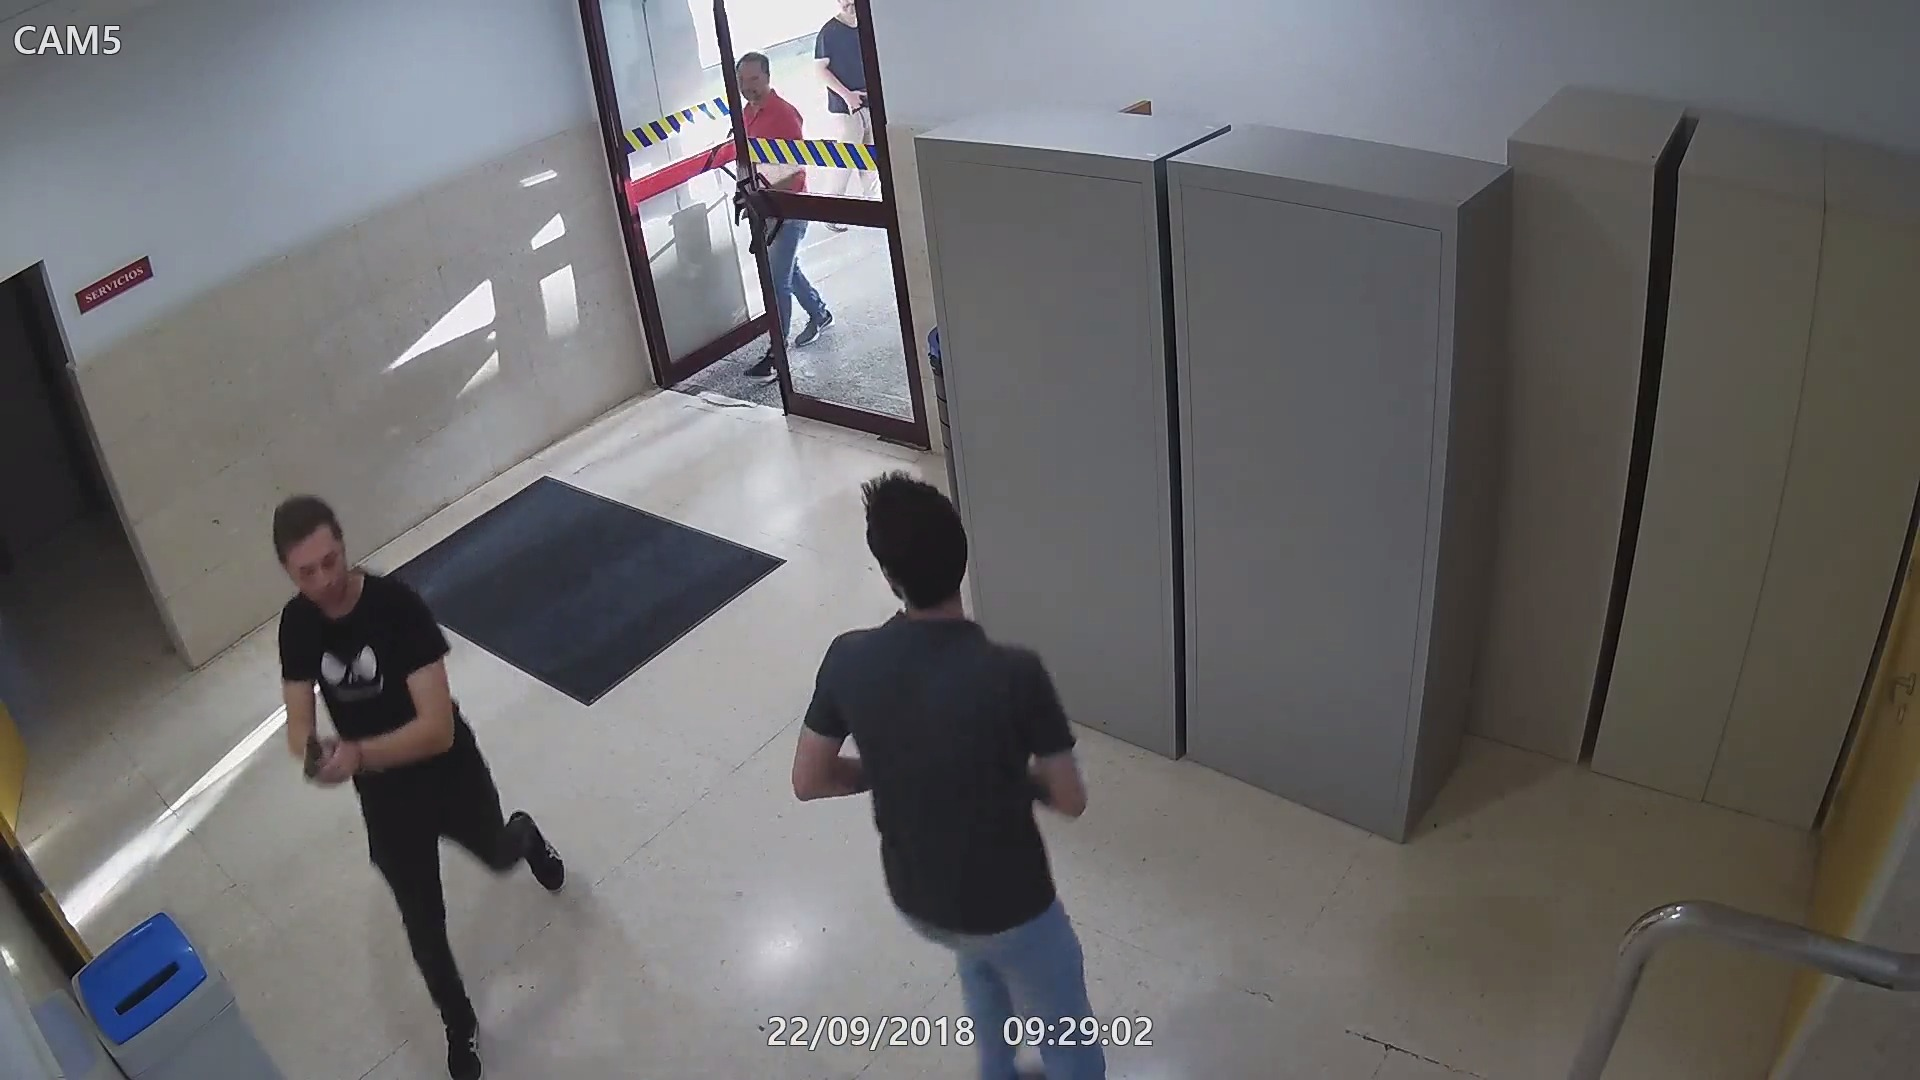Handgun: (301, 733, 345, 789), (728, 183, 756, 228)
